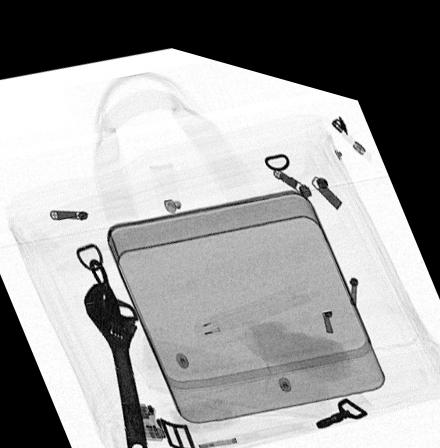Wrench: (82, 272, 149, 448)
